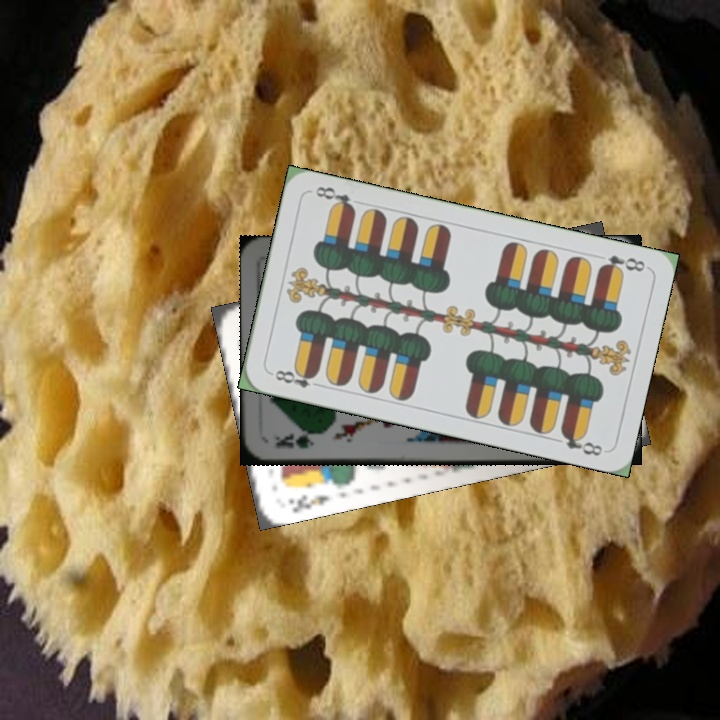E8: (266, 364, 325, 391), (595, 251, 648, 277)
EK: (284, 490, 332, 514)
GK: (271, 429, 324, 451)
